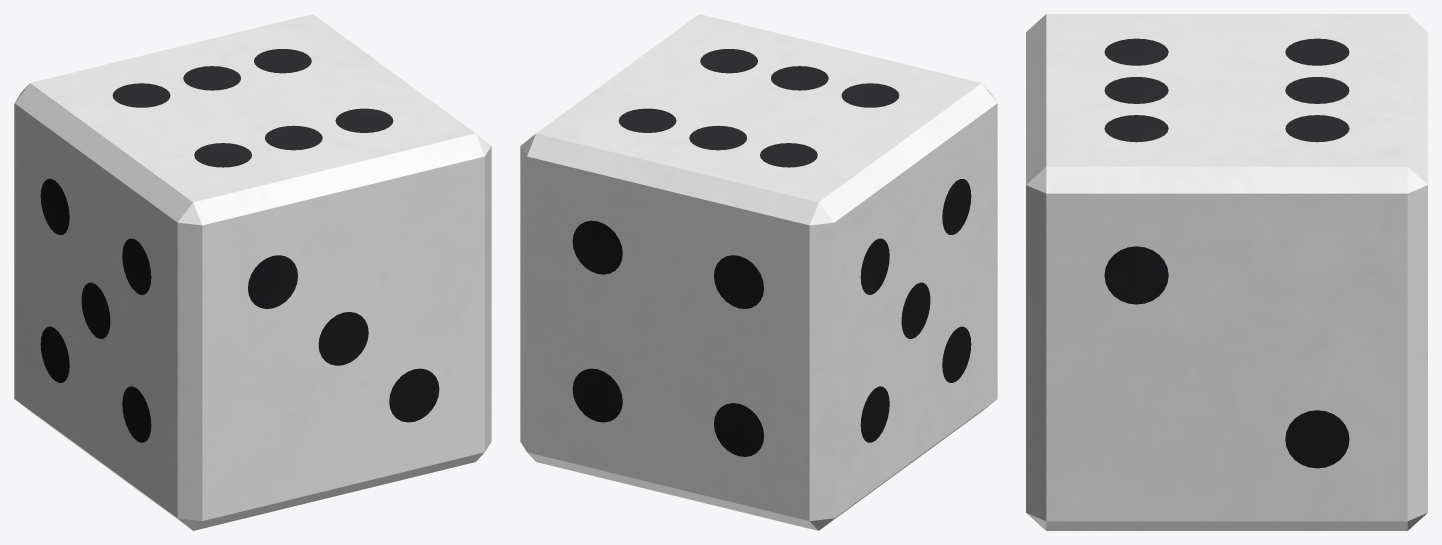
File: newDice3e.fbx
3 renders of one model, left to right at view 1: azimuth 30°, elevation 25°; view 2: azimuth 150°, elevation 25°; view 3: azimuth 270°, elevation 25°, orthographic. The views are drawn at different scales.
Visible parts, largest first — view 1: newDice:polySurface1; view 2: newDice:polySurface1; view 3: newDice:polySurface1.
Part boxes in pixels (x1,y1,x2,y2): newDice:polySurface1: [14, 14, 491, 530]; newDice:polySurface1: [520, 14, 997, 530]; newDice:polySurface1: [1026, 14, 1427, 530].
Bounding box in the file's own units: 7.5 × 7.5 × 7.5.
Materials: 2 (2 with a texture image).
